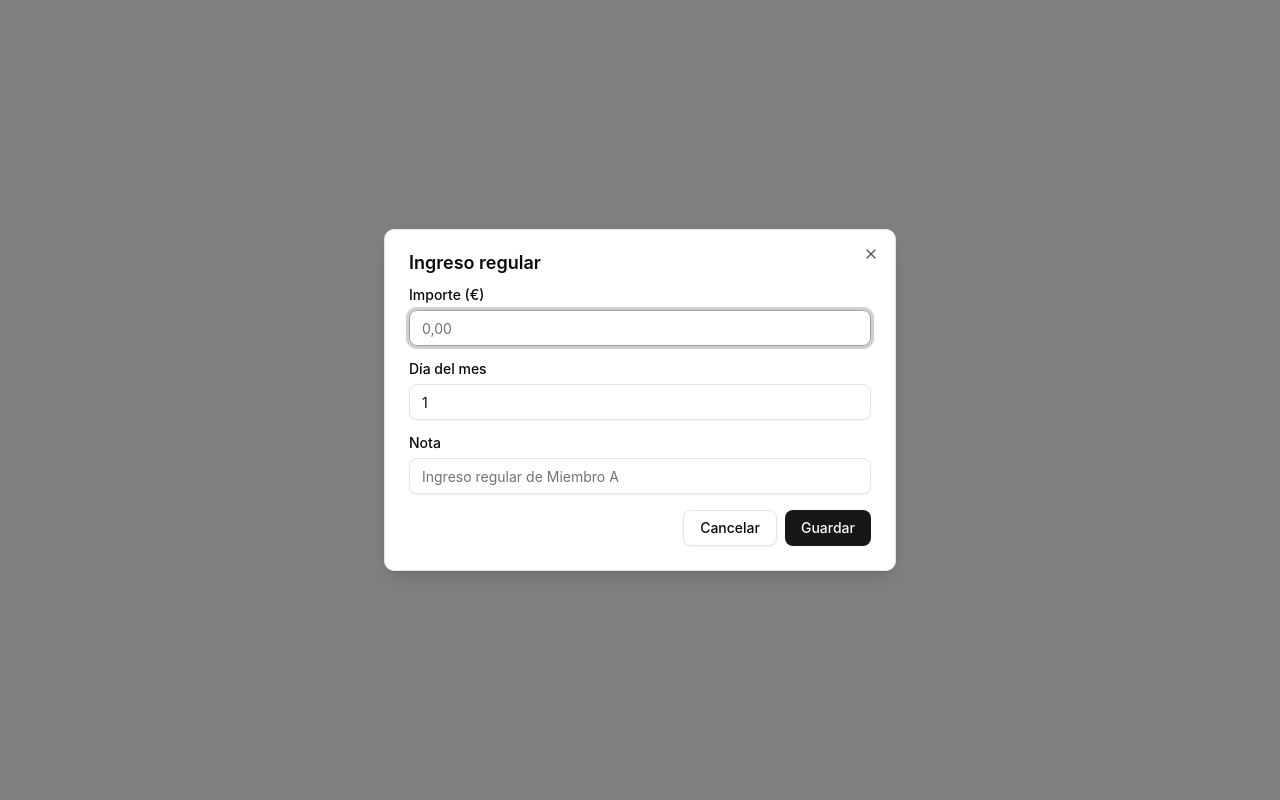
RegularIncomeConfigDialog › errores por campo con role=alert, valores conservados y diálogo abierto
The width and height of the screenshot is (1280, 800).
Click the button "Guardar" at (828, 528), box [785,510,871,546]
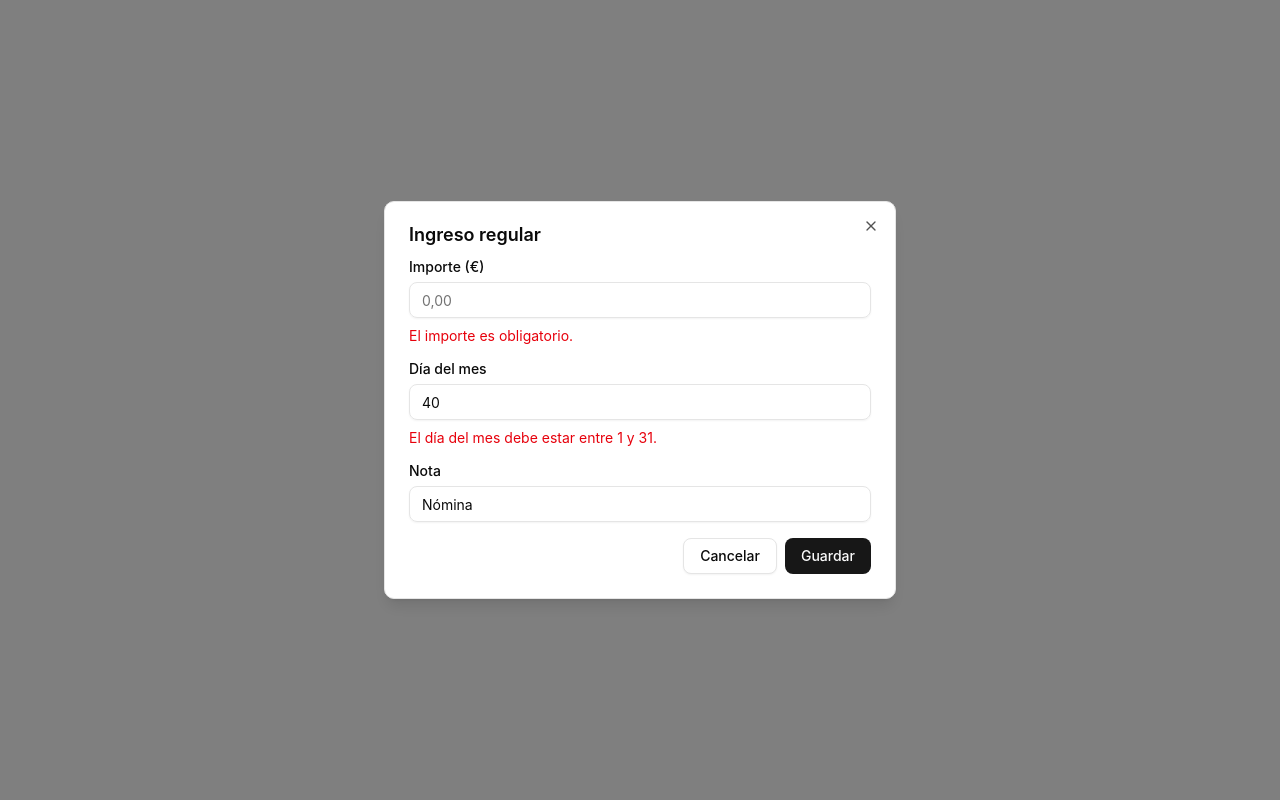
Check: the messages read "El importe es obligatorio.", "El día del mes debe estar entre 1 y 31.", in this order, box [409,327,573,344]; [409,429,657,446]
Check: the field labelled "Día del mes" holds "40", box [409,384,871,420]
Check: the field labelled "Nota" holds "Nómina", box [409,486,871,522]
